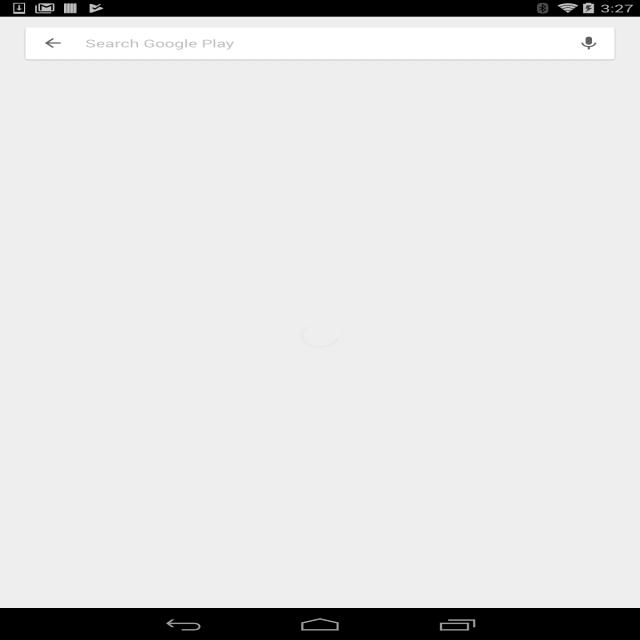Button: (222, 444, 316, 510), (324, 444, 418, 510), (426, 444, 520, 510)
ImageButton: (0, 17, 60, 59)
ImageView: (0, 59, 640, 254), (26, 270, 196, 377), (264, 121, 376, 192), (0, 606, 144, 640), (148, 606, 292, 640), (296, 606, 440, 640), (445, 606, 589, 640), (332, 444, 411, 493), (434, 444, 513, 493), (60, 30, 224, 46), (593, 606, 640, 640), (26, 406, 51, 422), (222, 334, 239, 345), (293, 502, 301, 507)
TextView: (0, 529, 640, 575), (222, 270, 614, 317), (0, 575, 640, 593), (77, 406, 424, 422), (222, 317, 582, 331), (25, 380, 166, 392), (589, 22, 640, 54), (324, 493, 418, 510), (426, 493, 520, 510), (120, 493, 213, 510), (526, 380, 614, 392), (245, 333, 316, 347), (236, 493, 290, 510), (144, 459, 188, 478), (250, 454, 288, 475), (142, 482, 192, 490)
